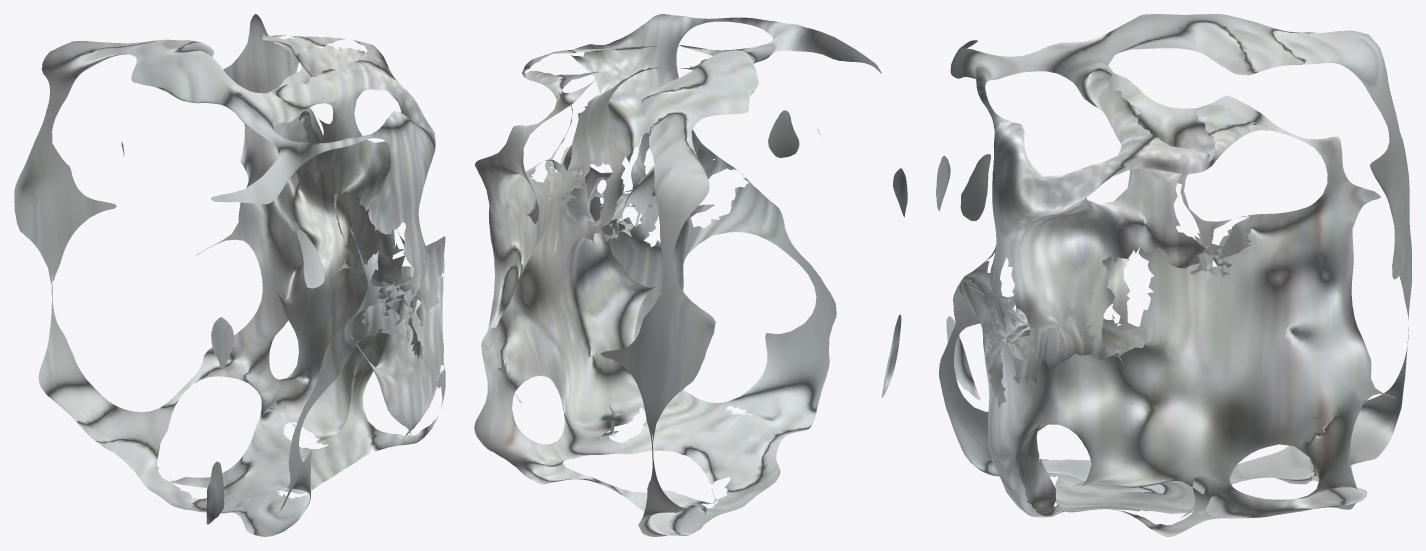
3 views of the same model, side by side, from view 1: azimuth 30°, elevation 25°; view 2: azimuth 150°, elevation 25°; view 3: azimuth 270°, elevation 25° (orthographic). The views are drawn at different scales.
Parts seen in each view (by area): view 1: Renderer Node; view 2: Renderer Node; view 3: Renderer Node.
Part boxes in pixels (bbox=[...]): Renderer Node: bbox=[14, 14, 445, 536]; Renderer Node: bbox=[474, 14, 907, 536]; Renderer Node: bbox=[936, 14, 1411, 536].
Size of the model in its own units: 1.56 by 2.31 by 2.06.
Materials: 1 (1 with a texture image).
